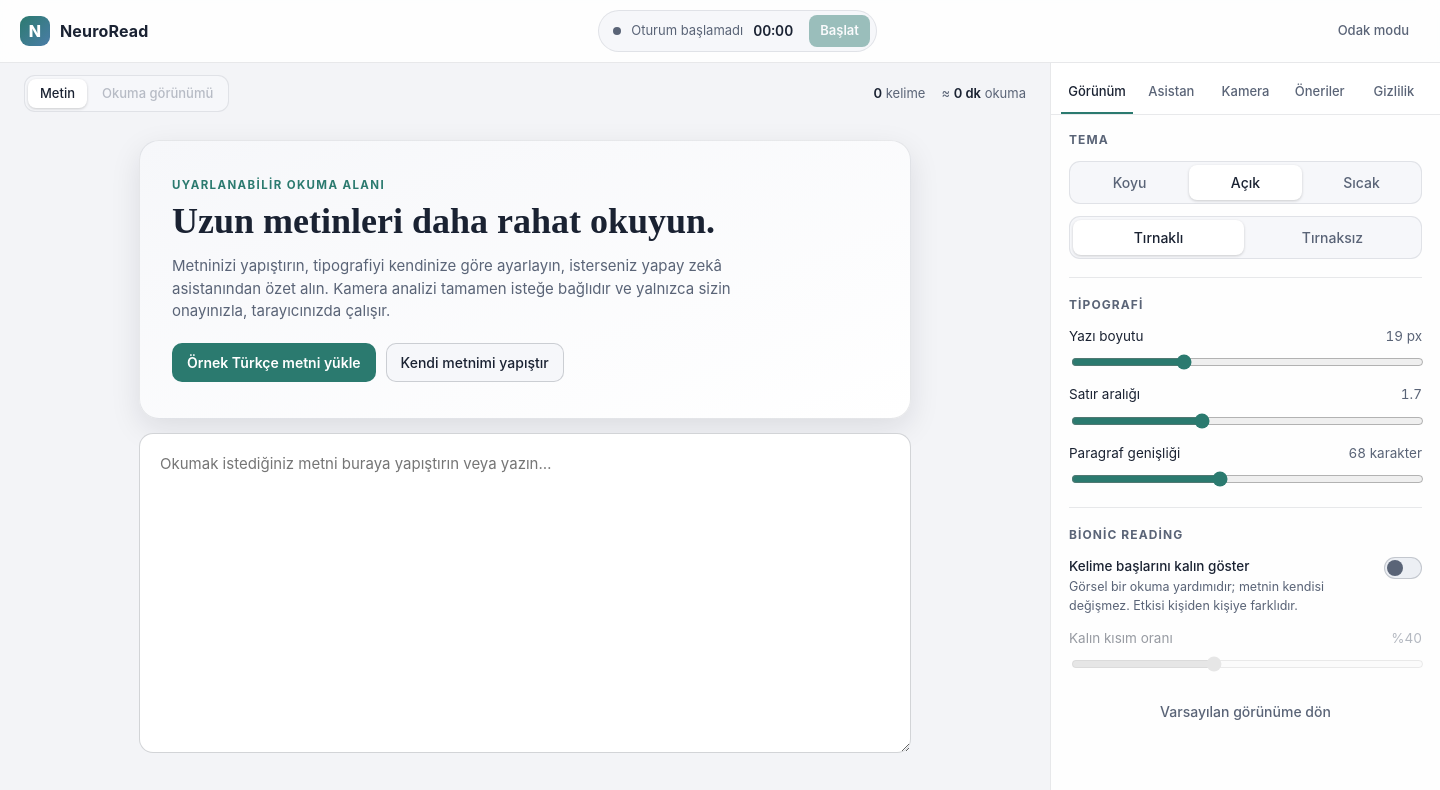
Test case: App without camera or API key › demo mode is labelled as simulated and does not start the camera
Step 1. Click the button "Örnek Türkçe metni yükle" → [274, 362], box [172, 343, 376, 382]
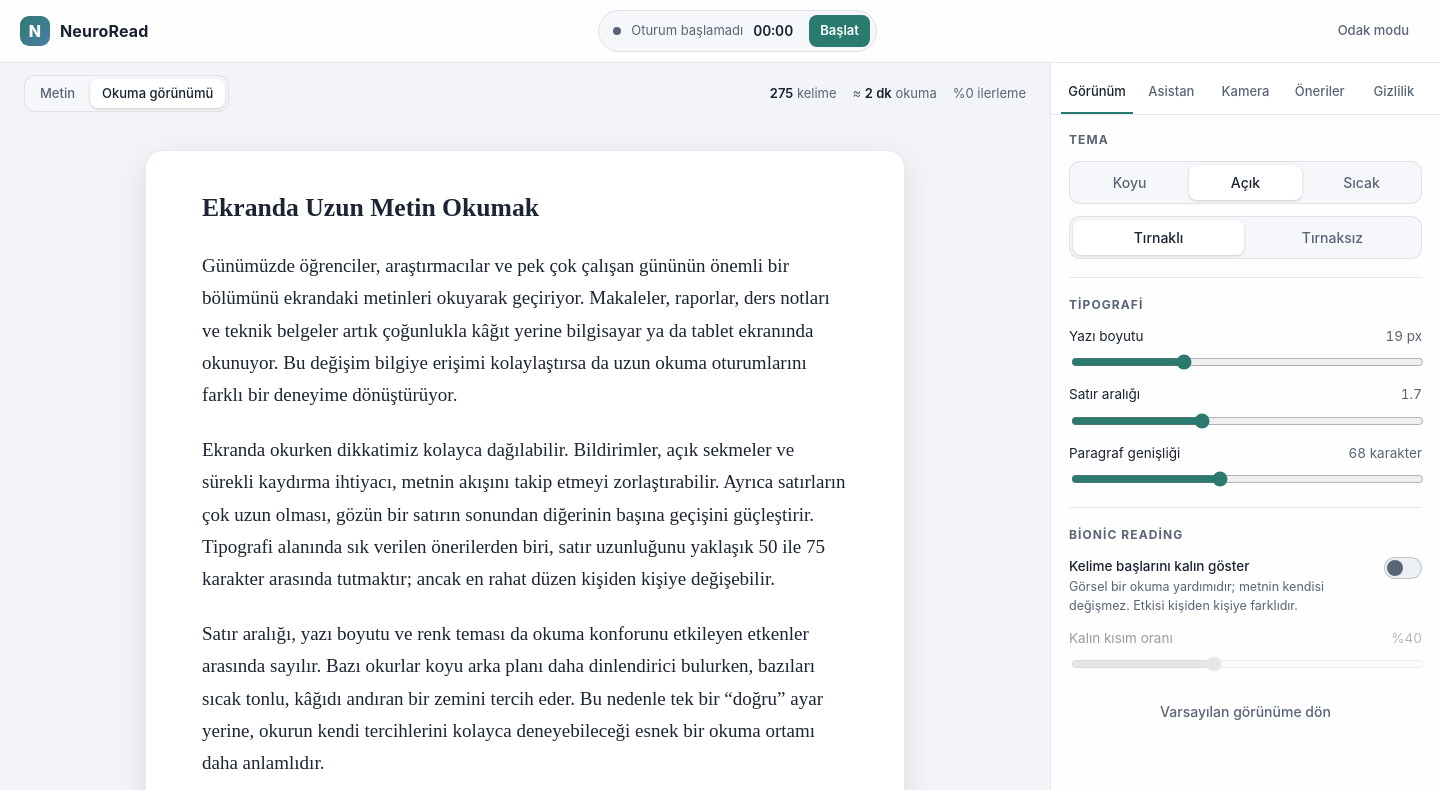
Step 2. Click the tab "Kamera" → [1246, 93], box [1209, 72, 1282, 114]
(page scrolled)
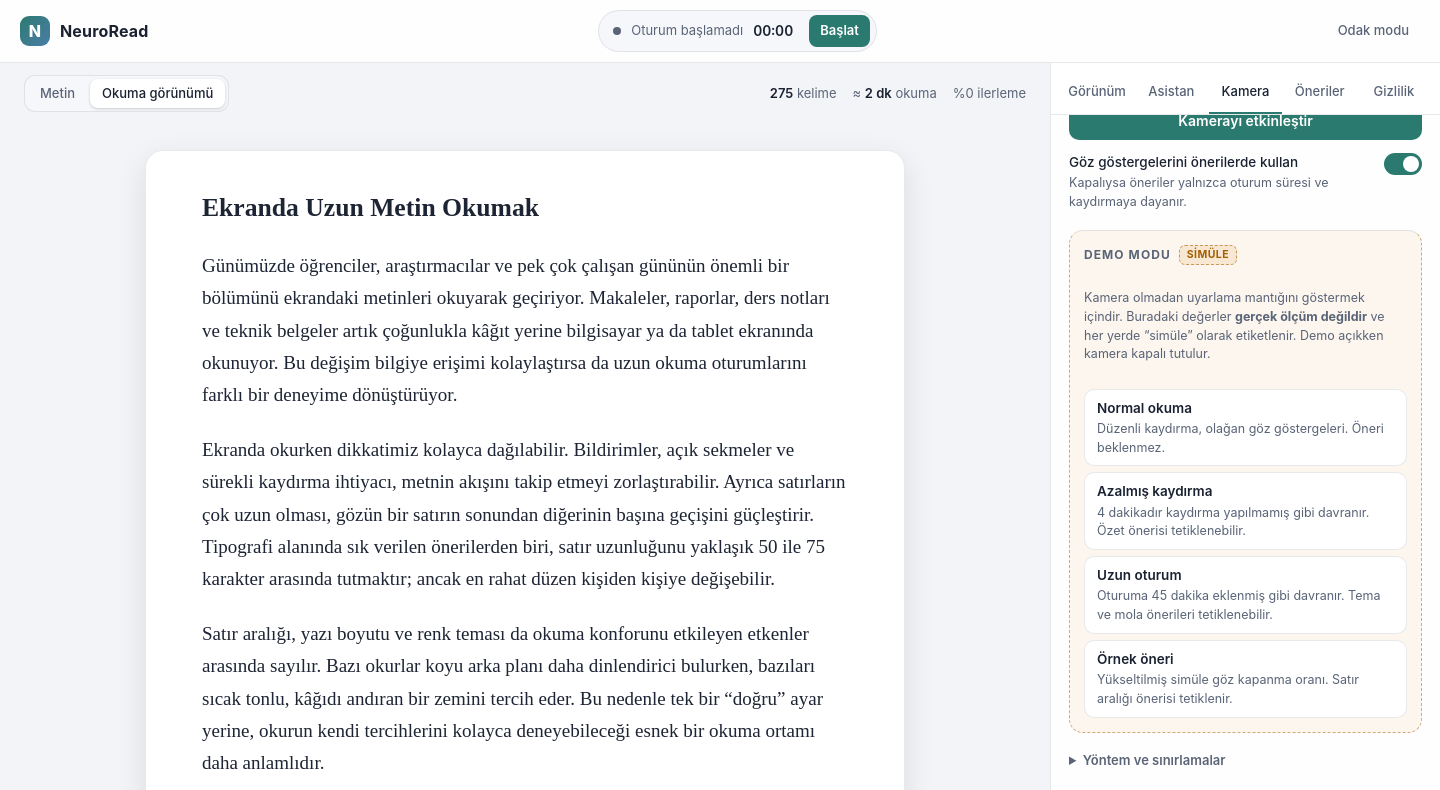
Step 3. Click the radio button labelled "Örnek öneri" → [1246, 679], box [1084, 640, 1407, 718]
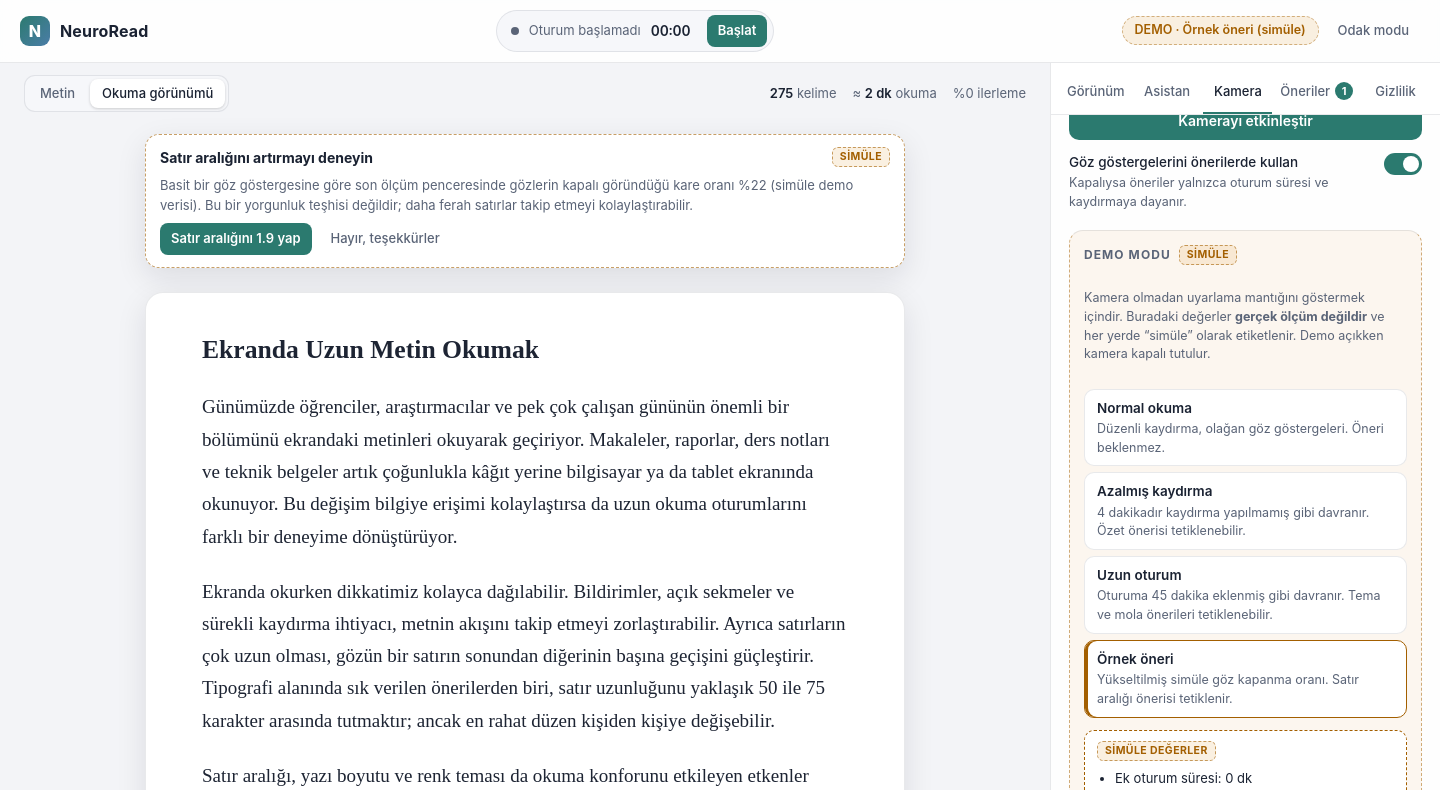
Now the button "DEMO · Örnek öneri (simüle)" is shown, box [1122, 16, 1319, 45]
Now the element with class "suggestion" shows "SİMÜLE", box [840, 150, 882, 163]
